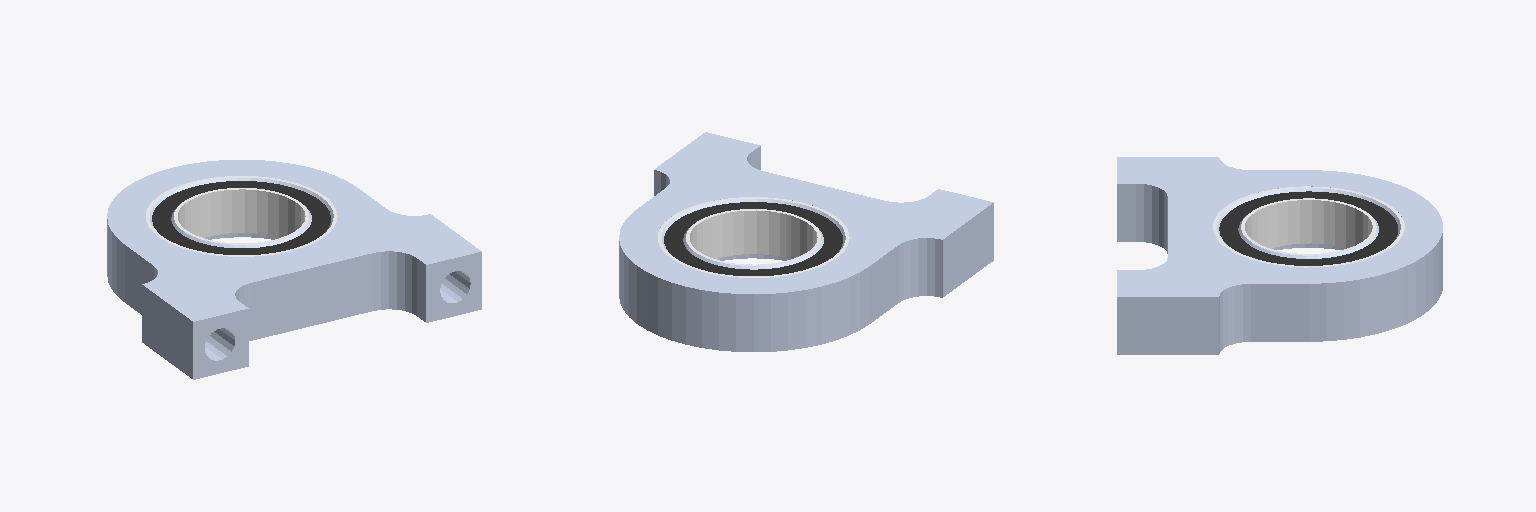
File: ROB-12362.obj
3 views of the same model, side by side, from view 1: azimuth 30°, elevation 25°; view 2: azimuth 150°, elevation 25°; view 3: azimuth 270°, elevation 25° (orthographic).
Parts seen in each view (by area): view 1: mesh 2 Boss-Extrude2, mesh 1 RO, mesh 3 Boss-Extrude4; view 2: mesh 2 Boss-Extrude2, mesh 1 RO, mesh 3 Boss-Extrude4; view 3: mesh 2 Boss-Extrude2, mesh 1 RO, mesh 3 Boss-Extrude4.
Boxes of the visible parts, x1=… form: mesh 2 Boss-Extrude2: x1=107, y1=160, x2=481, y2=379; mesh 1 RO: x1=146, y1=176, x2=337, y2=256; mesh 3 Boss-Extrude4: x1=152, y1=181, x2=330, y2=254; mesh 2 Boss-Extrude2: x1=619, y1=132, x2=993, y2=351; mesh 1 RO: x1=658, y1=197, x2=849, y2=277; mesh 3 Boss-Extrude4: x1=664, y1=202, x2=842, y2=275; mesh 2 Boss-Extrude2: x1=1117, y1=157, x2=1442, y2=354; mesh 1 RO: x1=1213, y1=186, x2=1404, y2=267; mesh 3 Boss-Extrude4: x1=1219, y1=191, x2=1397, y2=265.
Size of the model in its own units: 0.033 by 0.0063 by 0.0324.